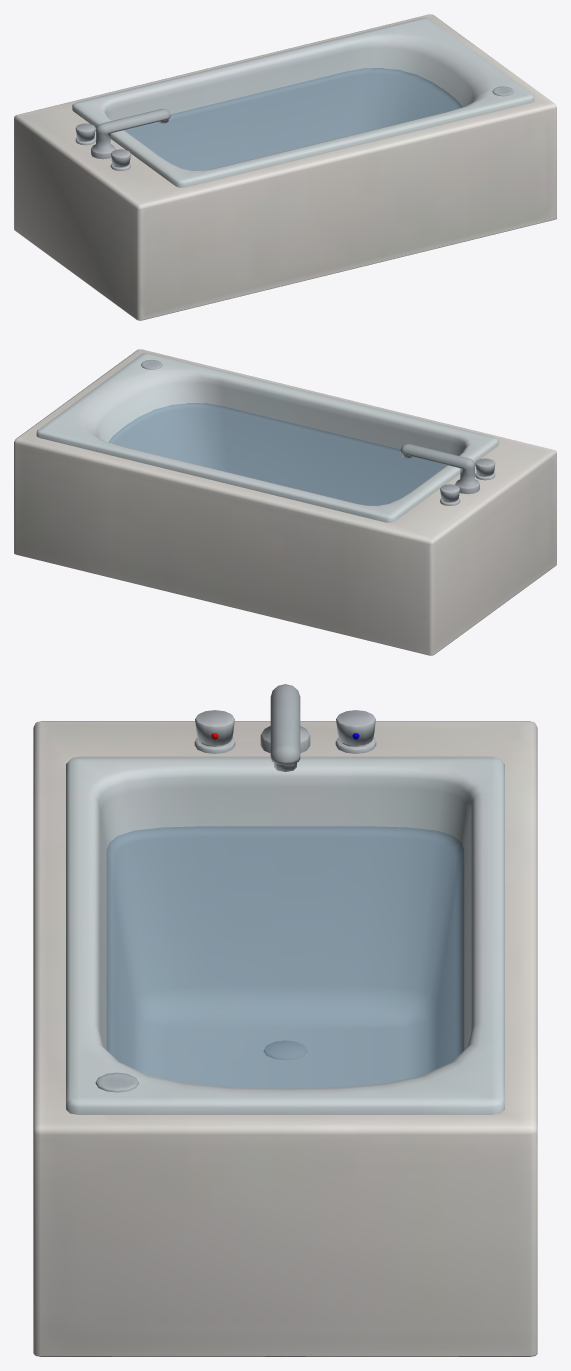
3 views of the same model, one above another, from view 1: azimuth 30°, elevation 25°; view 2: azimuth 150°, elevation 25°; view 3: azimuth 270°, elevation 25° (orthographic). The views are drawn at different scales.
Size of the model in its own units: 19 by 6.24 by 9.89.
2 materials, 1 textured.
